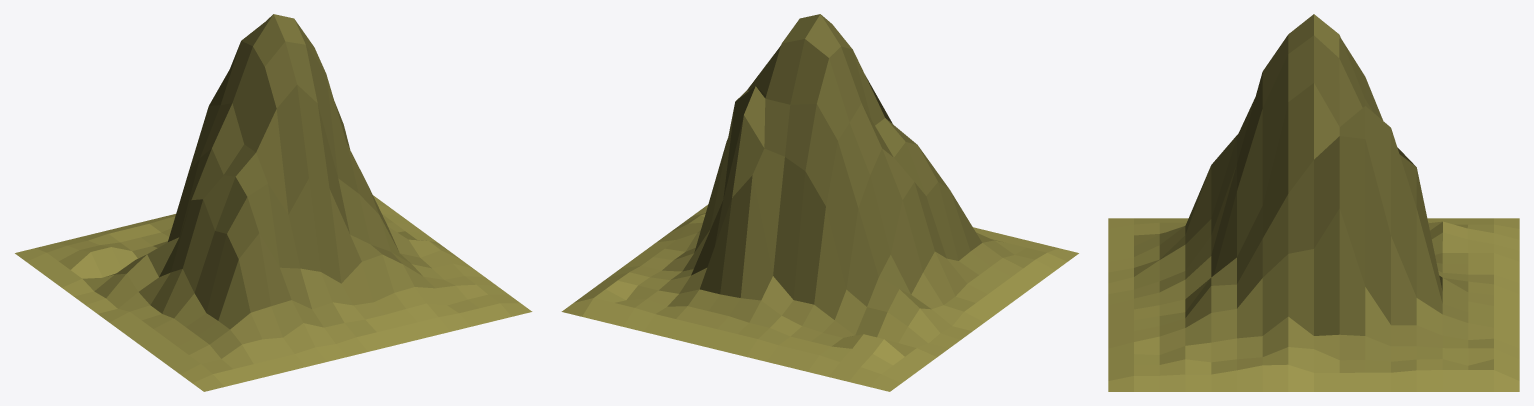
The model's file is Terrain_23_Yellow.fbx.
The picture shows the model from 3 angles, left to right: view 1: azimuth 30°, elevation 25°; view 2: azimuth 150°, elevation 25°; view 3: azimuth 270°, elevation 25°; orthographic projection. The views are drawn at different scales.
Parts seen in each view (by area): view 1: Terrain_23_Yellow; view 2: Terrain_23_Yellow; view 3: Terrain_23_Yellow.
Part boxes in pixels (x1,y1,x2,y2): Terrain_23_Yellow: (15, 14, 532, 391); Terrain_23_Yellow: (561, 14, 1078, 391); Terrain_23_Yellow: (1108, 14, 1519, 391).
Bounding box in the file's own units: 10000 × 7811 × 10000.
